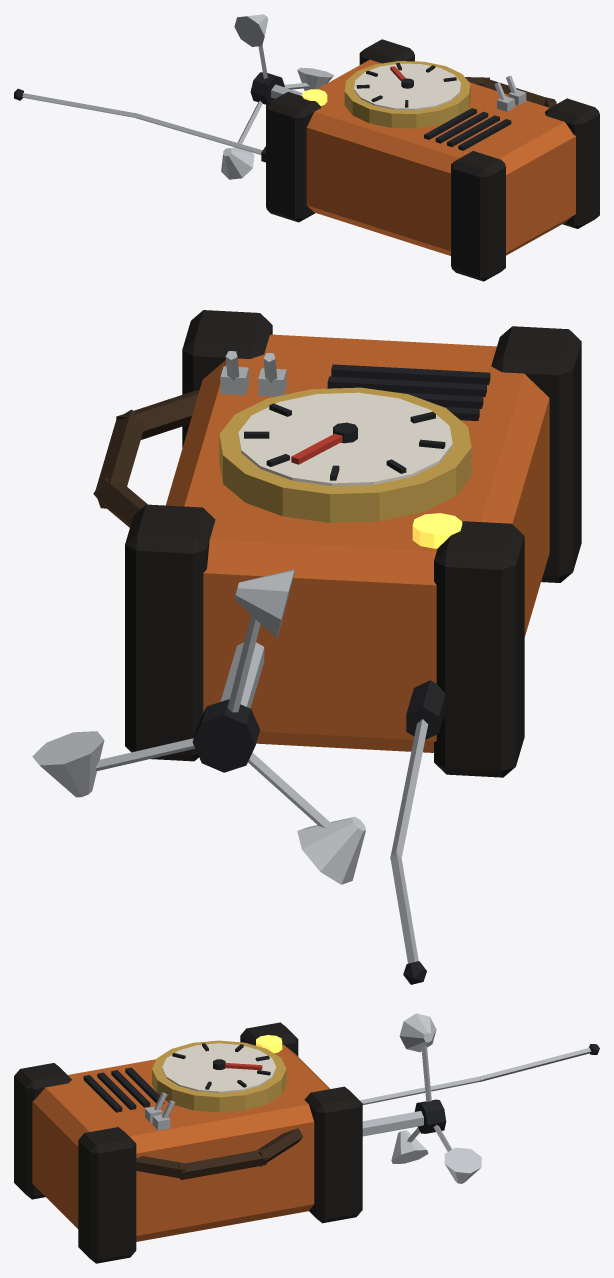
The model's file is storm_detector.glb.
3 renders of one model, top to bottom at view 1: azimuth 30°, elevation 25°; view 2: azimuth 150°, elevation 25°; view 3: azimuth 270°, elevation 25°, orthographic. The views are drawn at different scales.
Visible parts, largest first — view 1: storm_detector; view 2: storm_detector; view 3: storm_detector.
Part boxes in pixels (x1,y1,x2,y2): storm_detector: [14, 14, 599, 281]; storm_detector: [32, 310, 581, 984]; storm_detector: [14, 1013, 599, 1263].
Bounding box in the file's own units: 0.2548 × 0.1067 × 0.3484.
